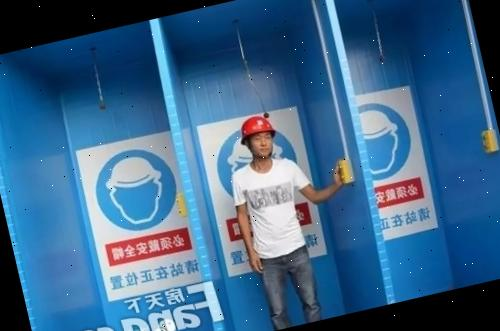helmet: (234, 111, 276, 142)
no_wear: (236, 155, 312, 260)
